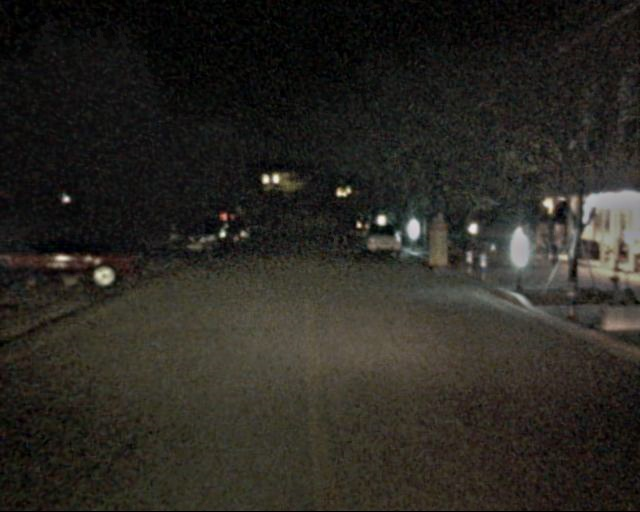person: (517, 219, 540, 275), (545, 220, 565, 269)
